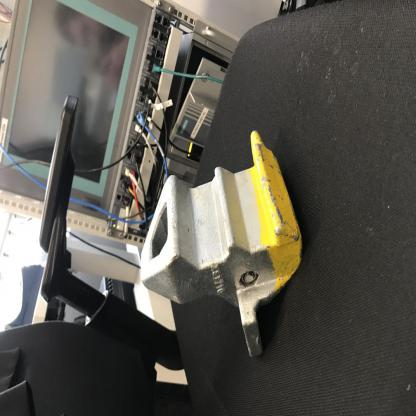Twistlock: (134, 119, 307, 366)
